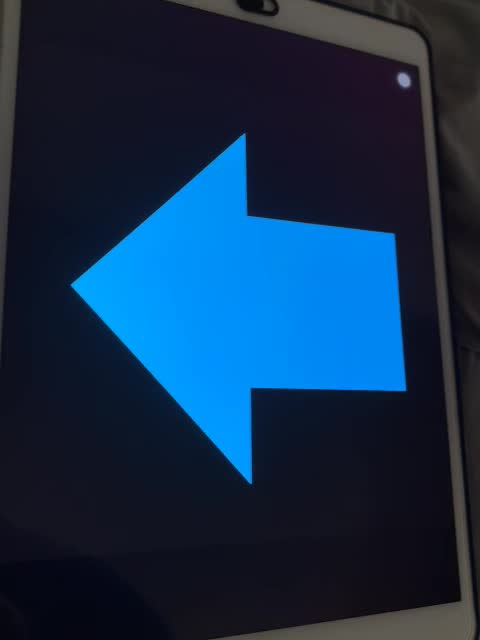left: (60, 116, 414, 493)
